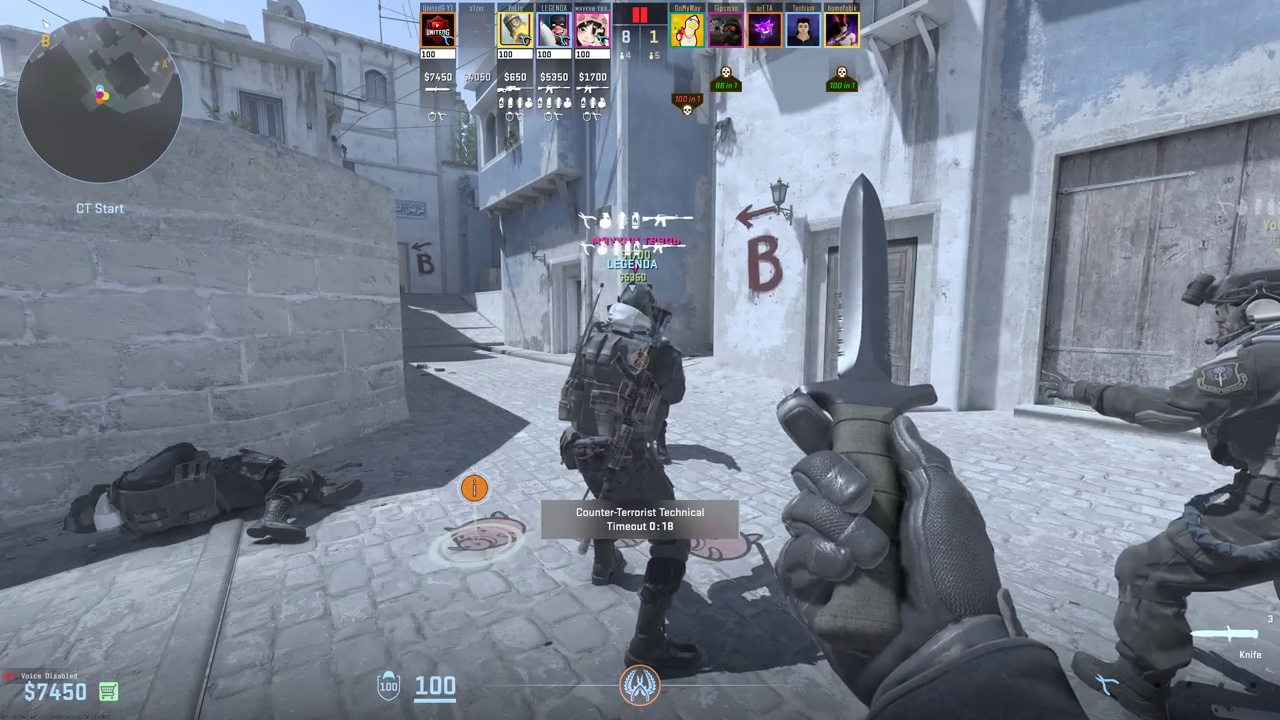CT: (1114, 267, 1280, 709), (570, 283, 695, 657)
